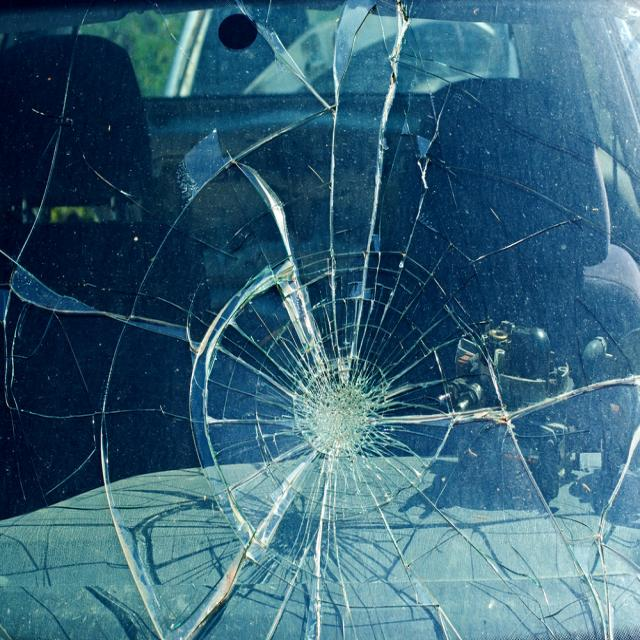Fissure: (179, 247, 522, 572), (43, 93, 223, 640), (515, 38, 640, 640), (226, 0, 506, 264), (2, 0, 94, 440), (246, 573, 501, 640), (141, 0, 212, 87)
